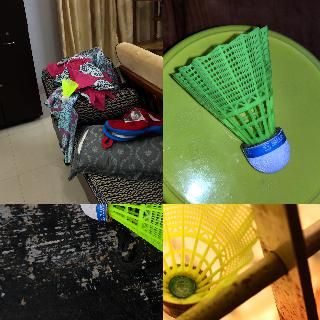shuttlecock: (170, 26, 290, 174), (163, 204, 257, 317), (79, 204, 162, 270), (62, 80, 78, 102)
